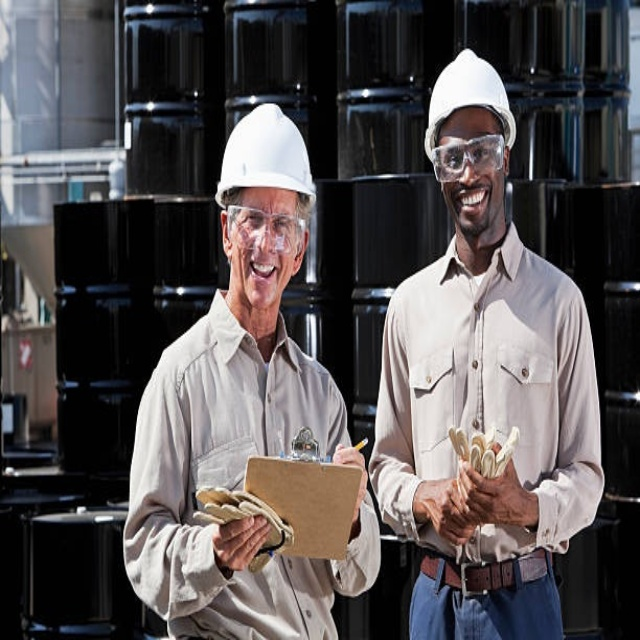Gafas: (225, 203, 306, 255), (431, 135, 506, 183)
Sin_guantes: (446, 444, 526, 536), (211, 511, 276, 572), (329, 447, 369, 530)
Sin_mascara: (453, 184, 493, 227), (243, 254, 278, 303)
